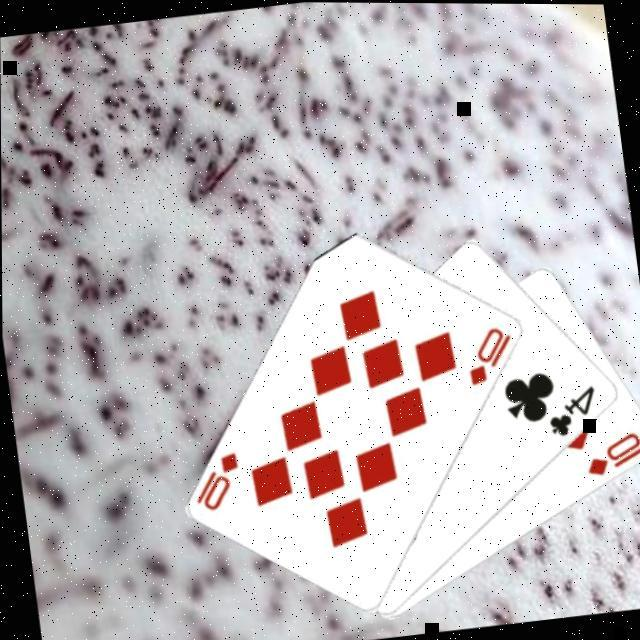10D: (188, 446, 249, 514), (461, 319, 520, 386), (580, 423, 640, 477)
4C: (543, 379, 605, 439)
